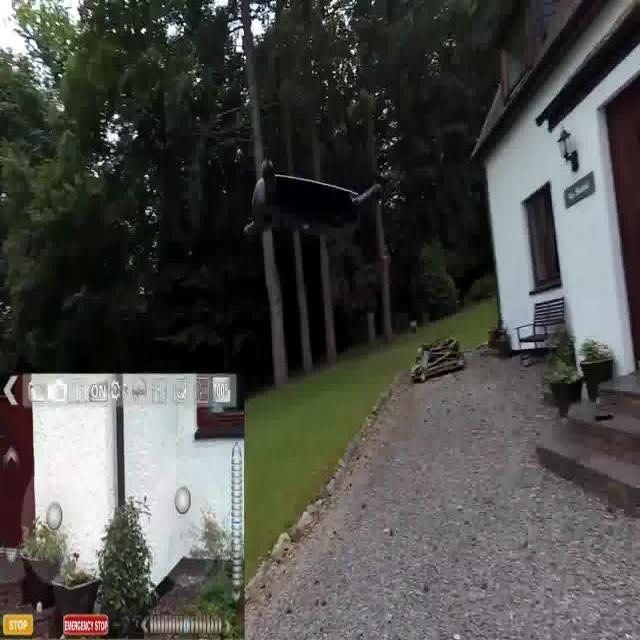drones: (226, 120, 410, 269)
